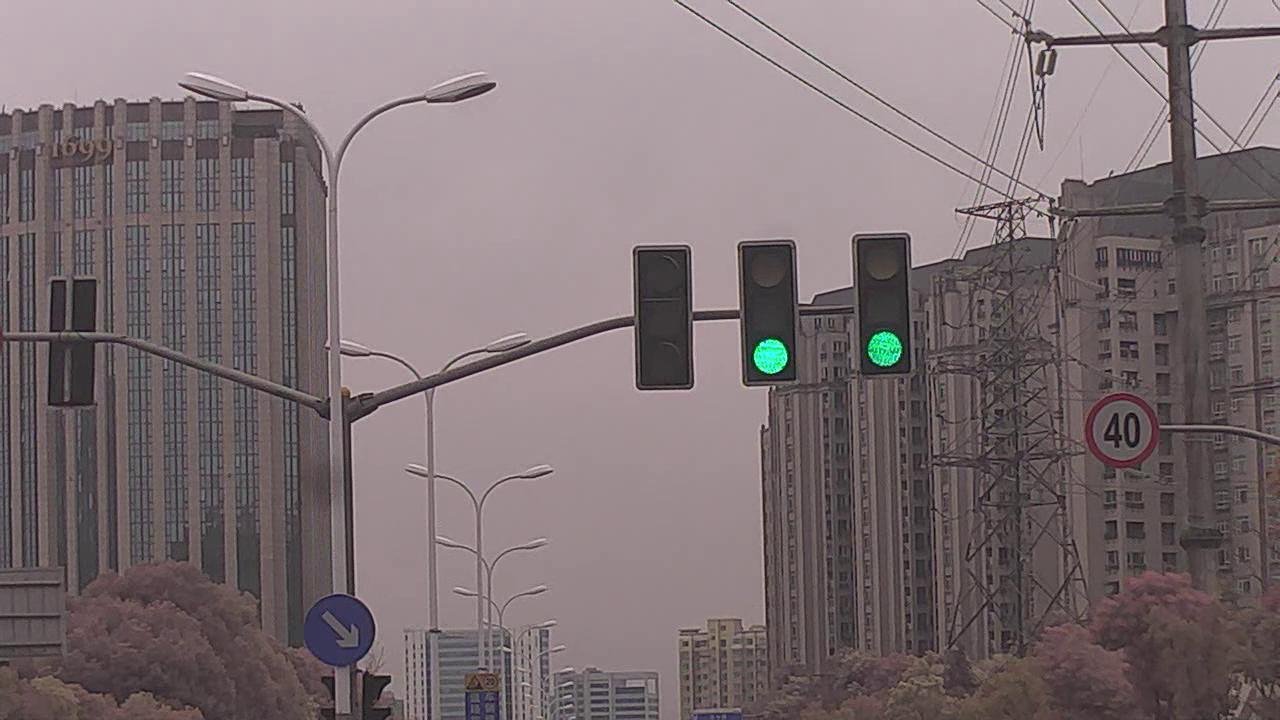traffic_light: (737, 239, 803, 389), (853, 233, 917, 379), (634, 245, 695, 387)
